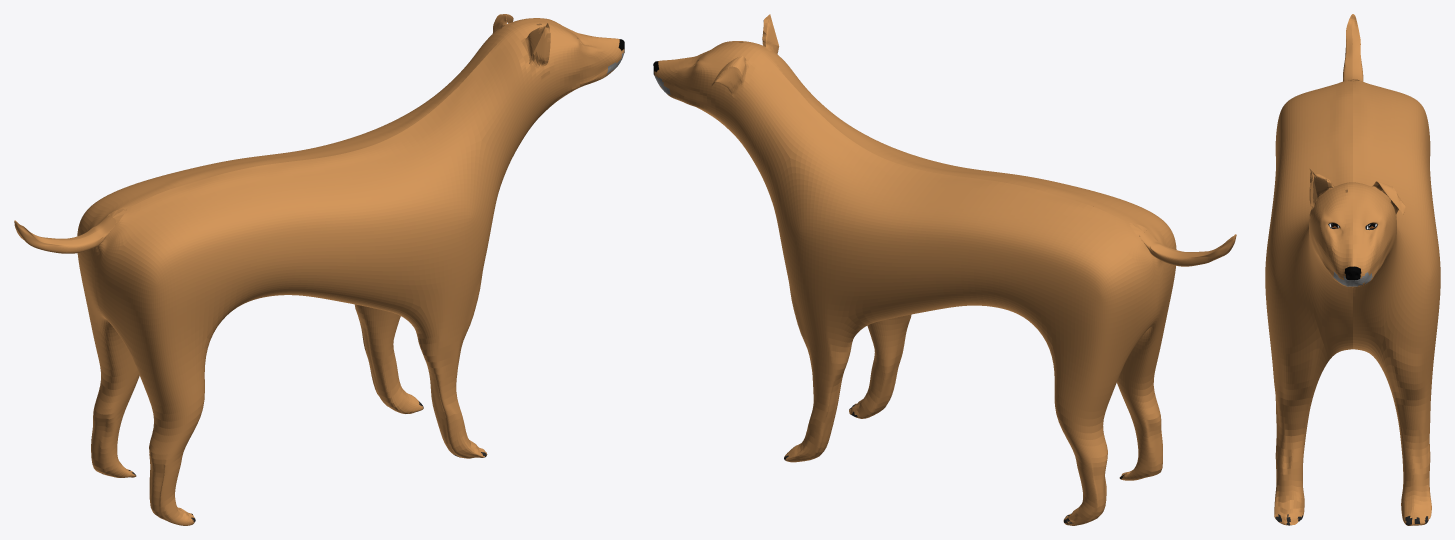
Rendered from Kailyn-dog.glb.
3 renders of one model, left to right at view 1: azimuth 30°, elevation 25°; view 2: azimuth 150°, elevation 25°; view 3: azimuth 270°, elevation 25°, orthographic. The views are drawn at different scales.
Visible parts, largest first — view 1: i; view 2: i; view 3: i.
Part boxes in pixels (x1,y1,x2,y2): i: [14, 14, 624, 525]; i: [653, 14, 1236, 525]; i: [1265, 14, 1440, 525].
Size of the model in its own units: 11.87 by 7.59 by 3.06.
